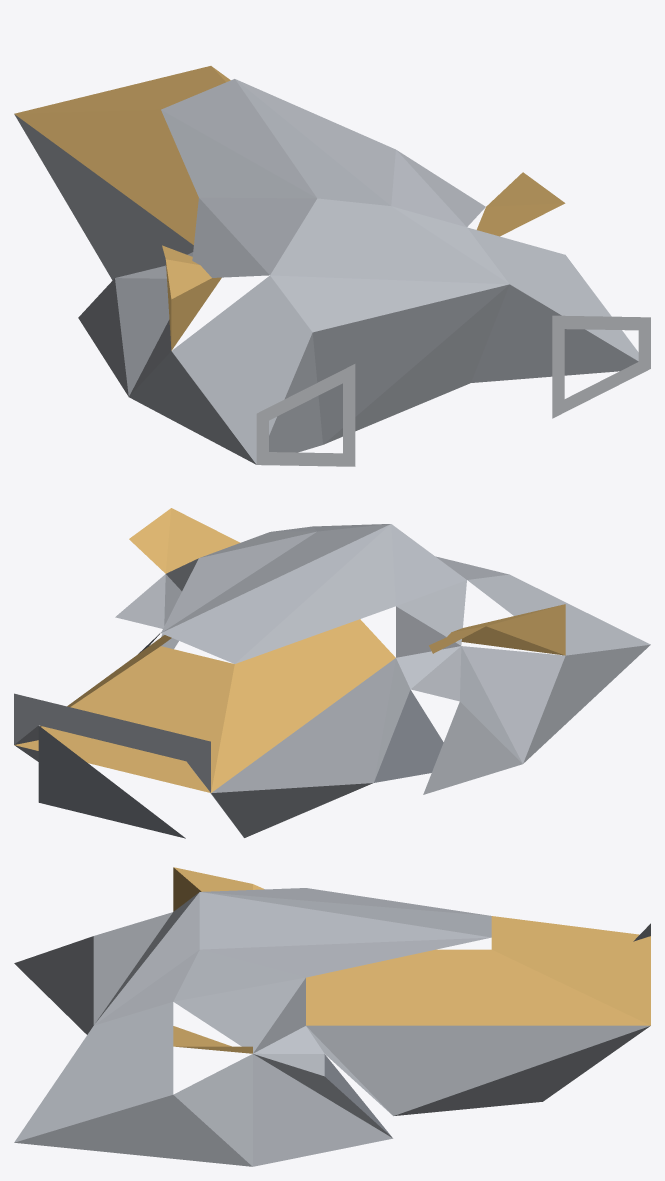
Rendered from craft_cargoA.lod.glb.
3 views of the same model, one above another, from view 1: azimuth 30°, elevation 25°; view 2: azimuth 150°, elevation 25°; view 3: azimuth 270°, elevation 25° (orthographic). The views are drawn at different scales.
Visible parts, largest first — view 1: craft_cargoA; view 2: craft_cargoA; view 3: craft_cargoA.
Boxes of the visible parts, x1,y1,x2,y2 form: craft_cargoA: (14, 66, 650, 466); craft_cargoA: (14, 508, 650, 838); craft_cargoA: (14, 867, 650, 1166).
Bounding box in the file's own units: 1.6 × 0.7999 × 2.4.
